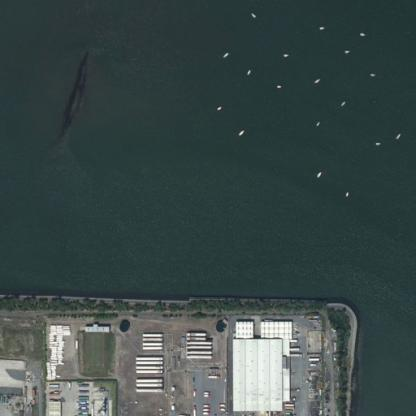ship: (393, 130, 402, 140), (311, 75, 320, 83), (237, 127, 245, 136), (249, 10, 256, 18), (245, 68, 252, 76), (281, 51, 289, 58), (314, 119, 321, 127), (339, 99, 346, 107), (314, 170, 322, 177), (222, 50, 228, 58), (317, 24, 325, 30), (343, 48, 350, 54), (358, 31, 366, 36), (369, 70, 374, 77), (215, 105, 222, 110), (374, 141, 381, 146), (275, 83, 281, 88), (344, 190, 348, 196)
